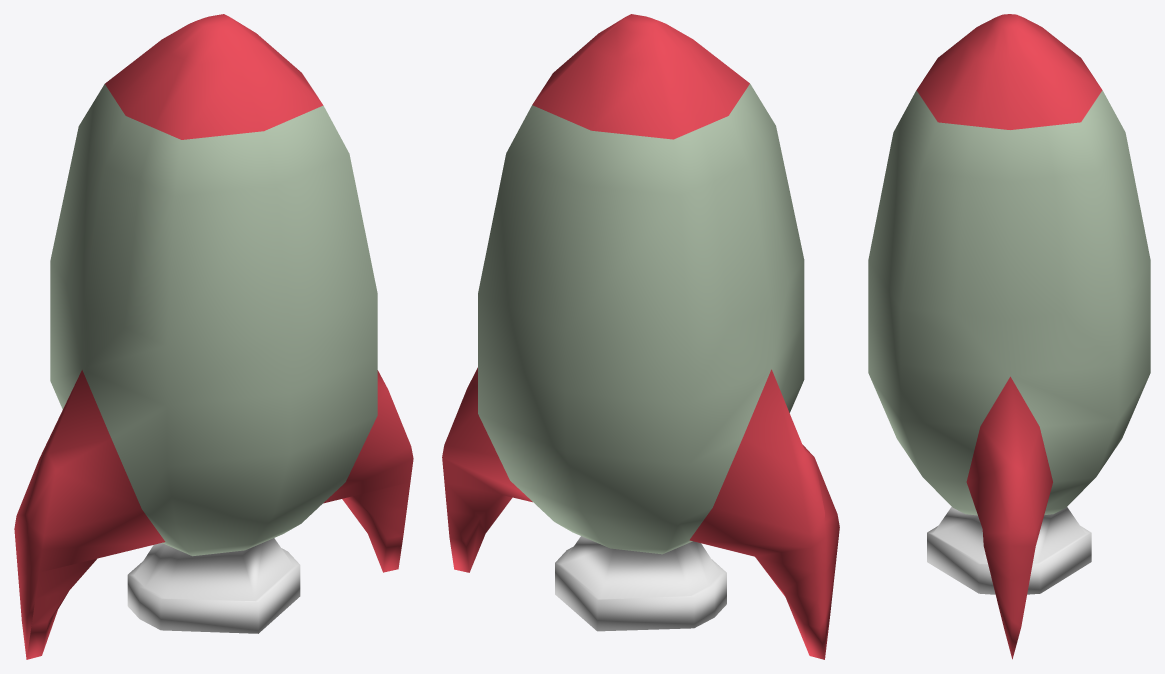
The model's file is Rocket.fbx.
3 renders of one model, left to right at view 1: azimuth 30°, elevation 25°; view 2: azimuth 150°, elevation 25°; view 3: azimuth 270°, elevation 25°, orthographic. The views are drawn at different scales.
Visible parts, largest first — view 1: Cube; view 2: Cube; view 3: Cube.
Part boxes in pixels (<box>): Cube: <box>14,14,413,659</box>; Cube: <box>442,14,839,659</box>; Cube: <box>868,14,1150,659</box>.
Bounding box in the file's own units: 709 × 1085 × 501.
